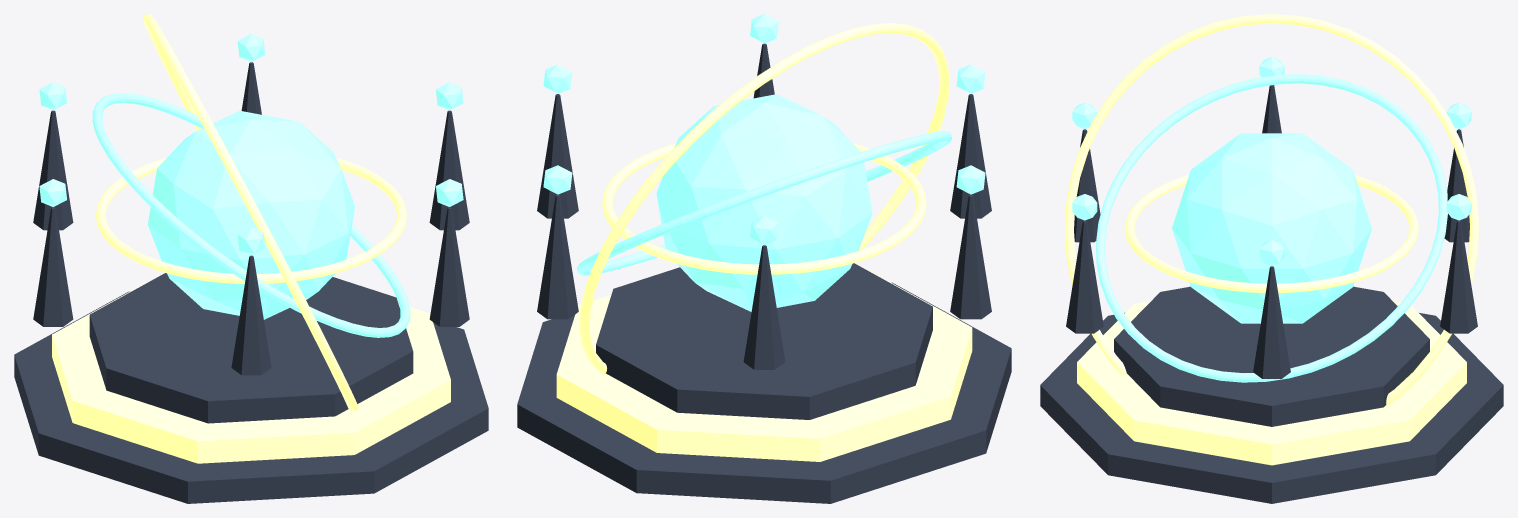
File: gpu-blender-v2.glb
The picture shows the model from 3 angles, left to right: view 1: azimuth 30°, elevation 25°; view 2: azimuth 150°, elevation 25°; view 3: azimuth 270°, elevation 25°; orthographic projection. The views are drawn at different scales.
Parts seen in each view (by area): view 1: Cylinder.002, SovereignCore_reality-shader-forge, Cylinder, Cylinder.001, Torus.001, Torus.002, Torus, Cone.004, Cone.003, Cone.005, Cone, Cone.002 (+7 smaller); view 2: Cylinder.002, SovereignCore_reality-shader-forge, Cylinder, Cylinder.001, Torus.002, Torus.001, Torus, Cone.001, Cone.003, Cone.002, Cone, Cone.004 (+6 smaller); view 3: SovereignCore_reality-shader-forge, Cylinder.002, Cylinder, Cylinder.001, Torus.001, Torus.002, Torus, Cone.001, Cone.005, Cone, Cone.004, Cone.002 (+4 smaller).
Boxes of the visible parts, bbox=[...] form: Cylinder.002: bbox=[89, 273, 413, 423]; SovereignCore_reality-shader-forge: bbox=[147, 110, 355, 319]; Cylinder: bbox=[14, 291, 488, 503]; Cylinder.001: bbox=[52, 281, 450, 463]; Torus.001: bbox=[92, 93, 410, 337]; Torus.002: bbox=[143, 14, 358, 411]; Torus: bbox=[95, 158, 407, 283]; Cone.004: bbox=[231, 255, 271, 375]; Cone.003: bbox=[33, 207, 73, 326]; Cone.005: bbox=[429, 207, 469, 326]; Cone: bbox=[429, 110, 469, 230]; Cone.002: bbox=[33, 110, 73, 230]; Cylinder.002: bbox=[596, 263, 932, 419]; SovereignCore_reality-shader-forge: bbox=[656, 94, 872, 311]; Cylinder: bbox=[517, 282, 1011, 503]; Cylinder.001: bbox=[556, 272, 972, 461]; Torus.002: bbox=[579, 23, 949, 374]; Torus.001: bbox=[577, 131, 951, 275]; Torus: bbox=[602, 143, 926, 274]; Cone.001: bbox=[537, 195, 578, 319]; Cone.003: bbox=[950, 195, 991, 319]; Cone.002: bbox=[743, 245, 785, 369]; Cone: bbox=[537, 94, 578, 218]; Cone.004: bbox=[950, 94, 991, 218]; SovereignCore_reality-shader-forge: bbox=[1172, 133, 1371, 323]; Cylinder.002: bbox=[1114, 286, 1429, 426]; Cylinder: bbox=[1040, 313, 1503, 503]; Cylinder.001: bbox=[1077, 301, 1466, 465]; Torus.001: bbox=[1096, 74, 1447, 382]; Torus.002: bbox=[1064, 14, 1479, 406]; Torus: bbox=[1125, 175, 1418, 292]; Cone.001: bbox=[1440, 220, 1477, 333]; Cone.005: bbox=[1066, 220, 1103, 333]; Cone: bbox=[1253, 266, 1290, 378]; Cone.004: bbox=[1074, 129, 1100, 242]; Cone.002: bbox=[1444, 129, 1469, 242].
Size of the model in its own units: 4.41 by 3.72 by 4.4.
